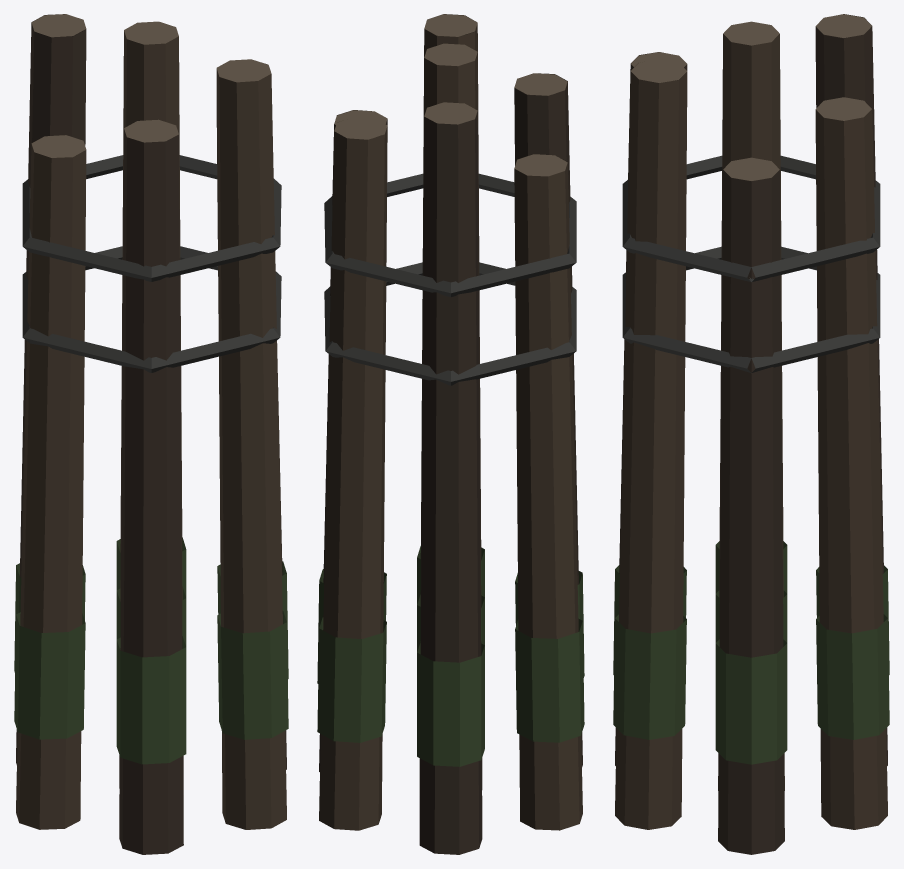
The model's file is seattle_pier_pilings.glb.
The picture shows the model from 3 angles, left to right: view 1: azimuth 30°, elevation 25°; view 2: azimuth 150°, elevation 25°; view 3: azimuth 270°, elevation 25°; orthographic projection. The views are drawn at different scales.
Visible parts, largest first — view 1: seattle_pier_pilings; view 2: seattle_pier_pilings; view 3: seattle_pier_pilings.
Boxes of the visible parts, <box> form: seattle_pier_pilings: <box>14,14,288,854</box>; seattle_pier_pilings: <box>317,14,584,854</box>; seattle_pier_pilings: <box>613,14,889,854</box>.
Size of the model in its own units: 1.84 by 5 by 1.65.
Materials: 1 (1 with a texture image).
